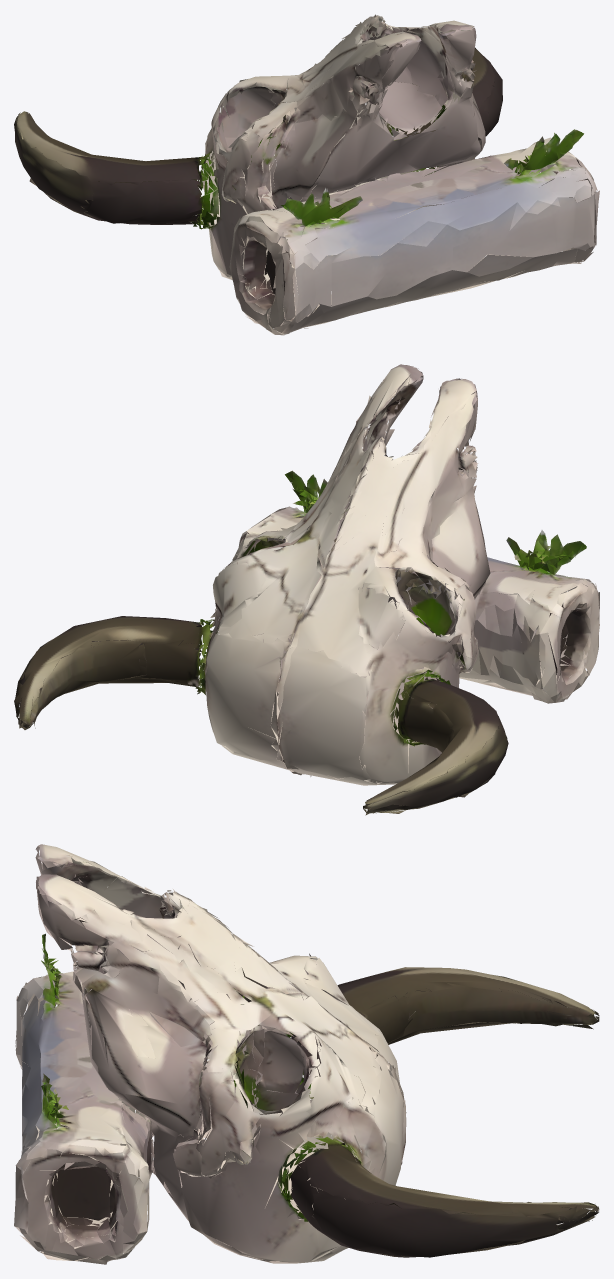
Rendered from Lab_BullSkull.glb.
3 renders of one model, top to bottom at view 1: azimuth 30°, elevation 25°; view 2: azimuth 150°, elevation 25°; view 3: azimuth 270°, elevation 25°, orthographic. The views are drawn at different scales.
Visible parts, largest first — view 1: Lab_BullSkull; view 2: Lab_BullSkull; view 3: Lab_BullSkull.
Boxes of the visible parts, bbox=[...] form: Lab_BullSkull: bbox=[14, 14, 599, 335]; Lab_BullSkull: bbox=[14, 364, 599, 815]; Lab_BullSkull: bbox=[14, 844, 599, 1264].
Bounding box in the file's own units: 1.8 × 1.21 × 1.78.
Materials: 1 (1 with a texture image).
